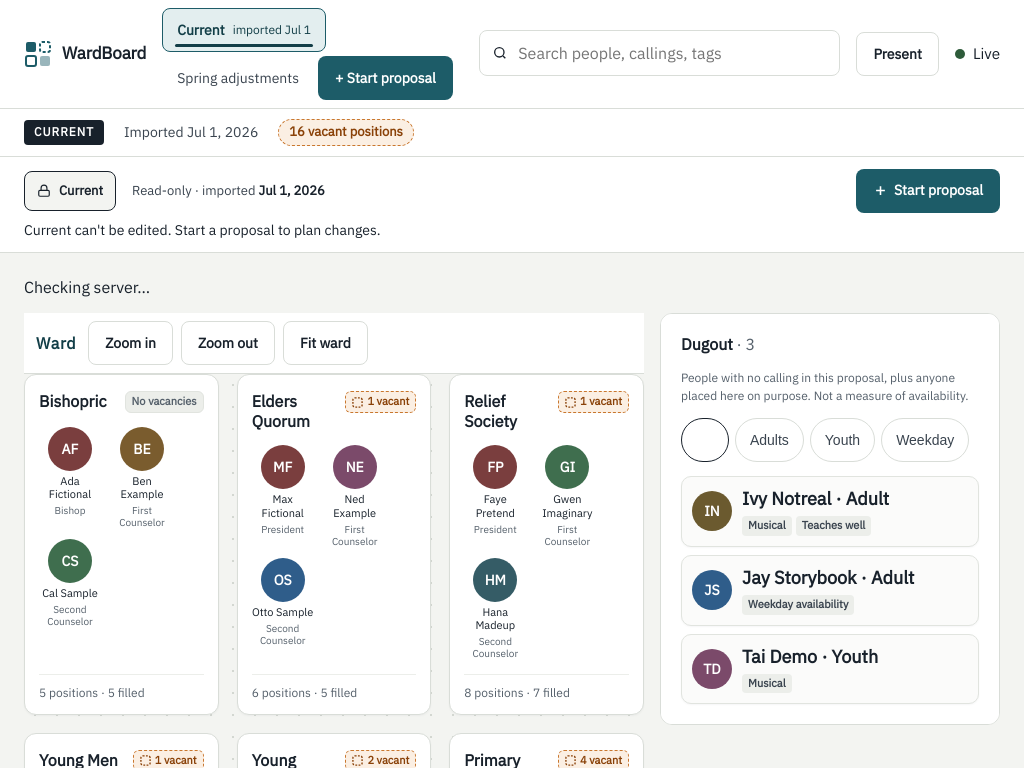
Test: BoardShell › search input is present with its label on every level
Double-click the element "Relief Society".
double_click(547, 545)  # box [449,374,644,715]
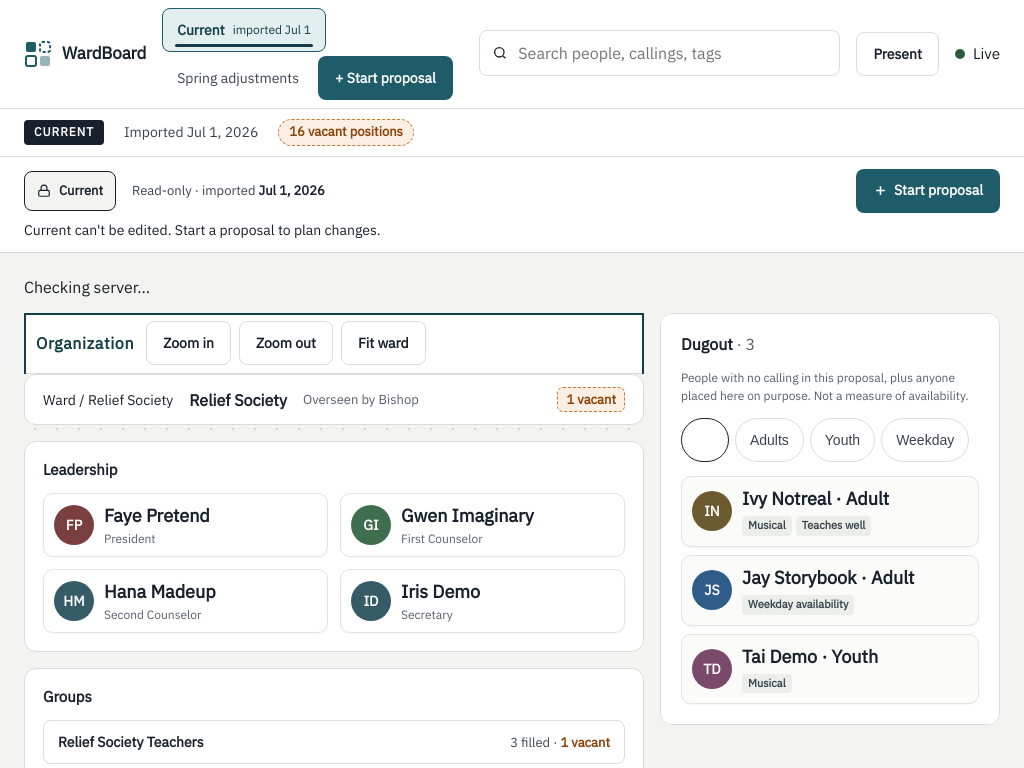
Check: the text with class "wb-canvas-level" reads "Organization", box [36,334,134,354]
Double-click the element named "Relief Society Teachers".
double_click(334, 742)  # box [43,720,625,764]
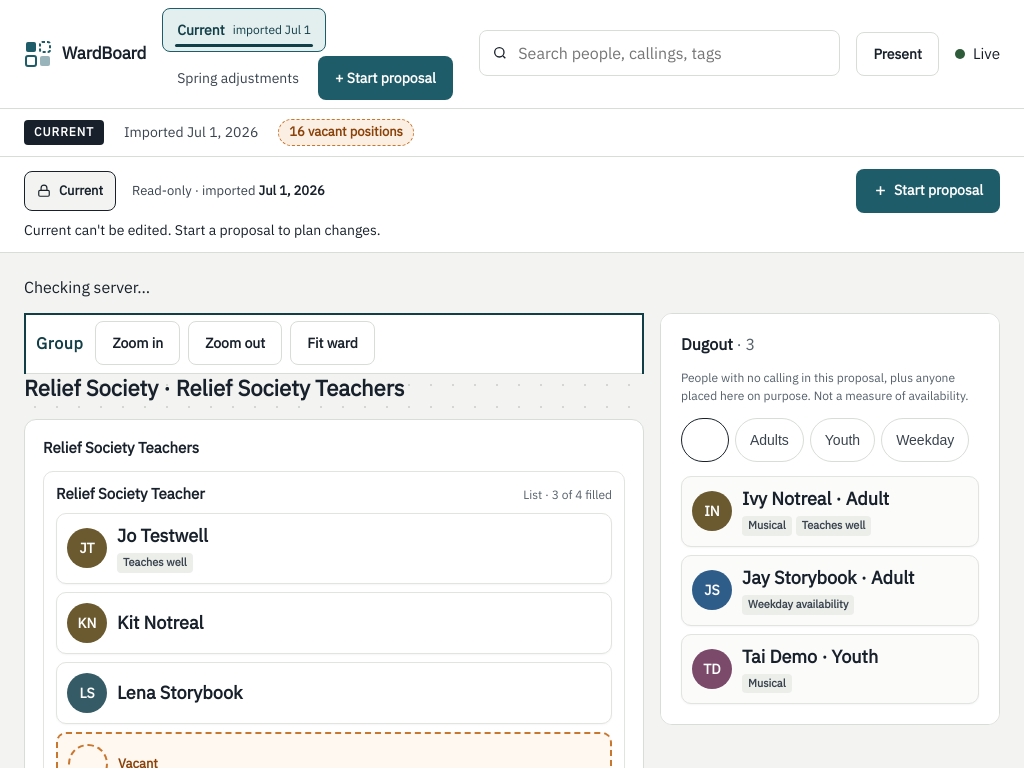
Check: the text with class "wb-canvas-level" reads "Group", box [36,334,84,354]
